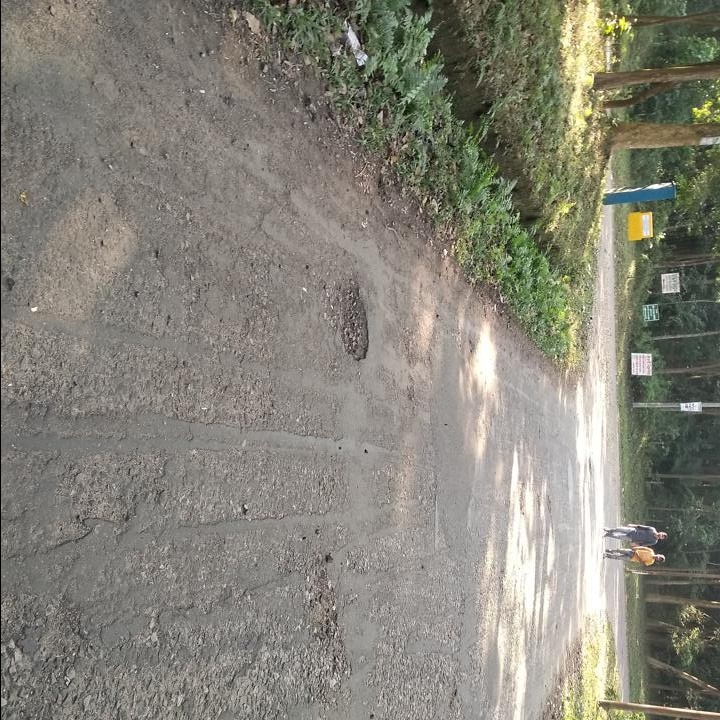pothole: (321, 271, 375, 361), (302, 564, 341, 637)
